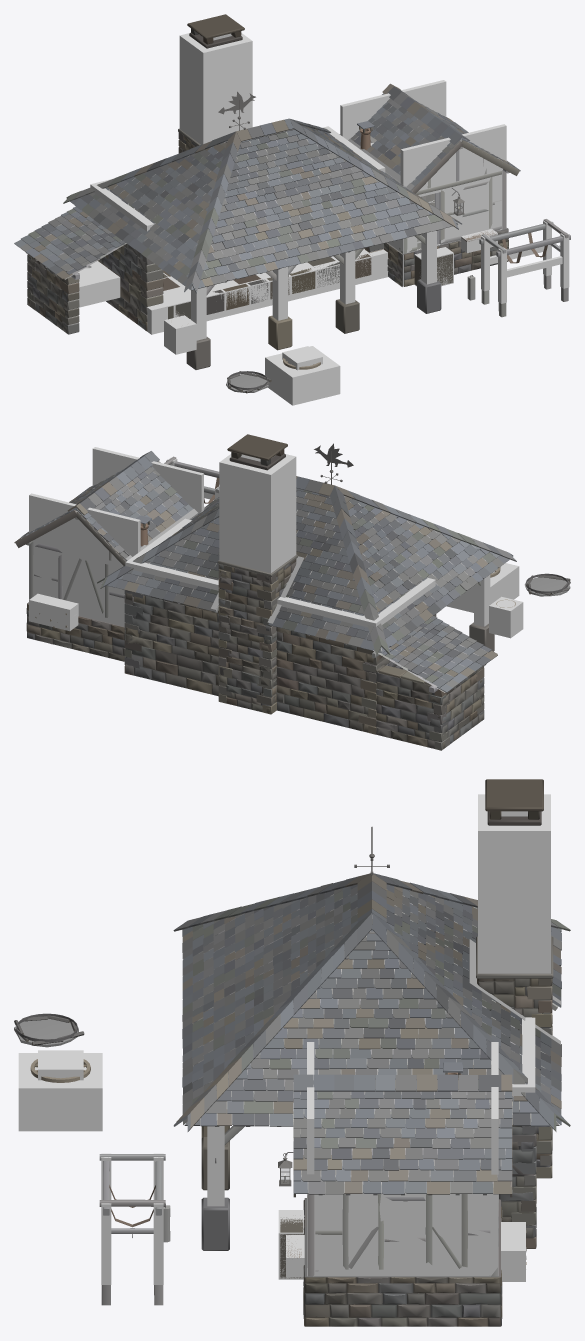
File: smithy.glb
3 views of the same model, one above another, from view 1: azimuth 30°, elevation 25°; view 2: azimuth 150°, elevation 25°; view 3: azimuth 270°, elevation 25° (orthographic). The views are drawn at different scales.
Visible parts, largest first — view 1: Roof slates, Stack solid, Room south east solid, Floor solid, Floor / tav_stone, Padstones, Shed walls, Tyring plate solid, Room plinth, Room frame / tav_oak, Stone walls, Room north solid (+17 smaller); view 2: Roof slates, Stone walls, Stack / tav_stone, Room north solid, Stack solid, Shed walls, Room plinth, Room frame / tav_oak, Back wall solid, Corner stones, Woodpile solid, Tyring plate solid (+13 smaller); view 3: Roof slates, Room east solid, Stack solid, Room plinth, Stack / tav_stone, Tyring plate solid, Room frame / tav_oak, Yard oak / tav_oak, Padstones, Roof / tav_board, Stone walls, Corner stones (+13 smaller).
Part boxes in pixels (x1,y1,x2,y2): Roof slates: (14,83,520,293); Stack solid: (179,33,252,144); Room south east solid: (438,124,506,244); Floor solid: (147,249,388,334); Floor / tav_stone: (162,253,371,319); Padstones: (186,279,441,369); Shed walls: (27,254,79,334); Tyring plate solid: (265,346,340,405); Room plinth: (384,228,508,286); Room frame / tav_oak: (393,140,519,253); Stone walls: (98,244,146,330); Room north solid: (340,80,446,139); Roof slates: (14,451,516,692); Stone walls: (125,590,405,732); Stack / tav_stone: (217,434,297,714); Room north solid: (29,493,140,626); Stack solid: (219,454,296,573); Shed walls: (375,665,484,750); Room plinth: (26,602,124,661); Room frame / tav_oak: (15,510,126,617); Back wall solid: (125,555,384,626); Corner stones: (124,590,436,734); Woodpile solid: (29,593,78,631); Tyring plate solid: (446,563,519,612); Roof slates: (173,873,570,1194); Room east solid: (307,1185,498,1276); Stack solid: (478,794,550,973); Room plinth: (280,1198,502,1326); Stack / tav_stone: (476,779,553,1178); Tyring plate solid: (18,1053,102,1131); Room frame / tav_oak: (293,1092,512,1276); Yard oak / tav_oak: (99,1154,170,1305); Padstones: (201,1126,229,1250); Roof / tav_board: (185,893,558,1124); Stone walls: (499,1125,536,1246); Corner stones: (511,1125,536,1248).
Size of the model in its own units: 16.36 by 8.87 by 12.21.
